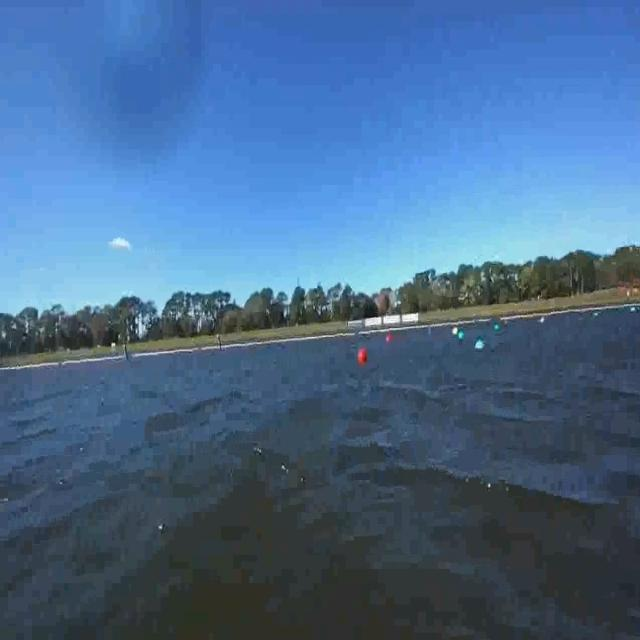green-buoy: (474, 338, 488, 358), (492, 320, 502, 338), (458, 329, 465, 340)
red-buoy: (384, 330, 396, 346), (358, 348, 367, 364)
